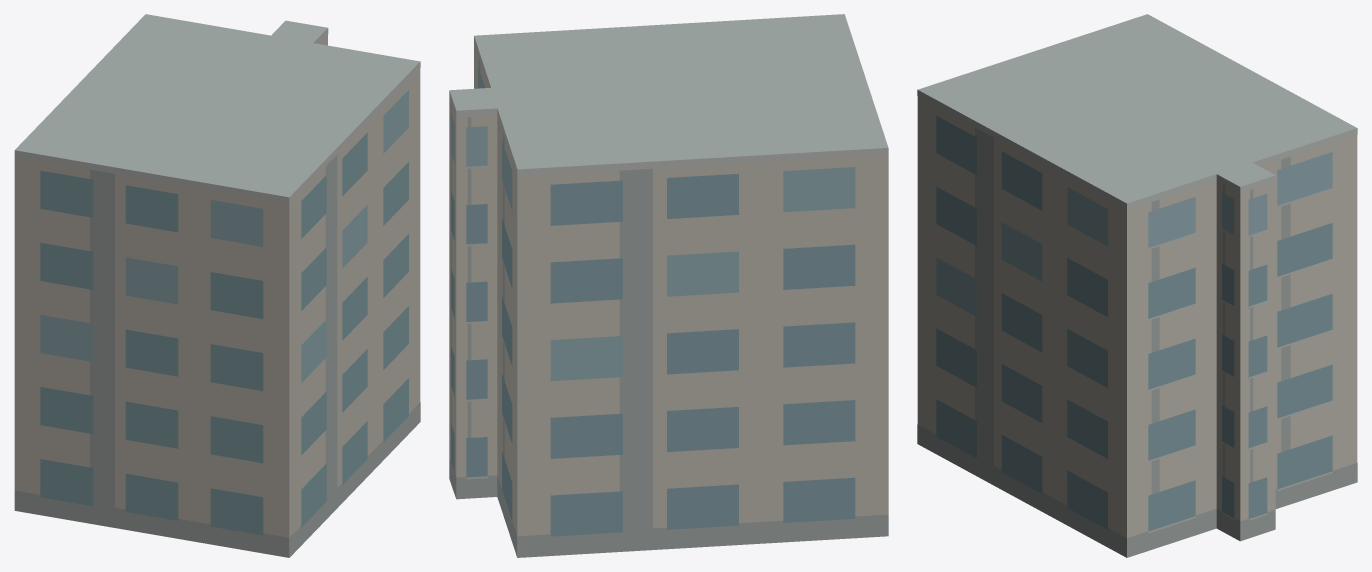
Rendered from residential-d47c6f98-789f-41b7-9e1f-cd28ec3ee0f1.glb.
The picture shows the model from 3 angles, left to right: view 1: azimuth 30°, elevation 25°; view 2: azimuth 150°, elevation 25°; view 3: azimuth 270°, elevation 25°; orthographic projection. The views are drawn at different scales.
Parts seen in each view (by area): view 1: residential-d47c6f98-789f-41b7-9e1f-cd28ec3ee0f1.tmp; view 2: residential-d47c6f98-789f-41b7-9e1f-cd28ec3ee0f1.tmp; view 3: residential-d47c6f98-789f-41b7-9e1f-cd28ec3ee0f1.tmp.
Part boxes in pixels (x1,y1,x2,y2): residential-d47c6f98-789f-41b7-9e1f-cd28ec3ee0f1.tmp: (14, 14, 420, 557); residential-d47c6f98-789f-41b7-9e1f-cd28ec3ee0f1.tmp: (449, 14, 888, 557); residential-d47c6f98-789f-41b7-9e1f-cd28ec3ee0f1.tmp: (917, 14, 1357, 557).
Bounding box in the file's own units: 15.27 × 13.3 × 14.97.
